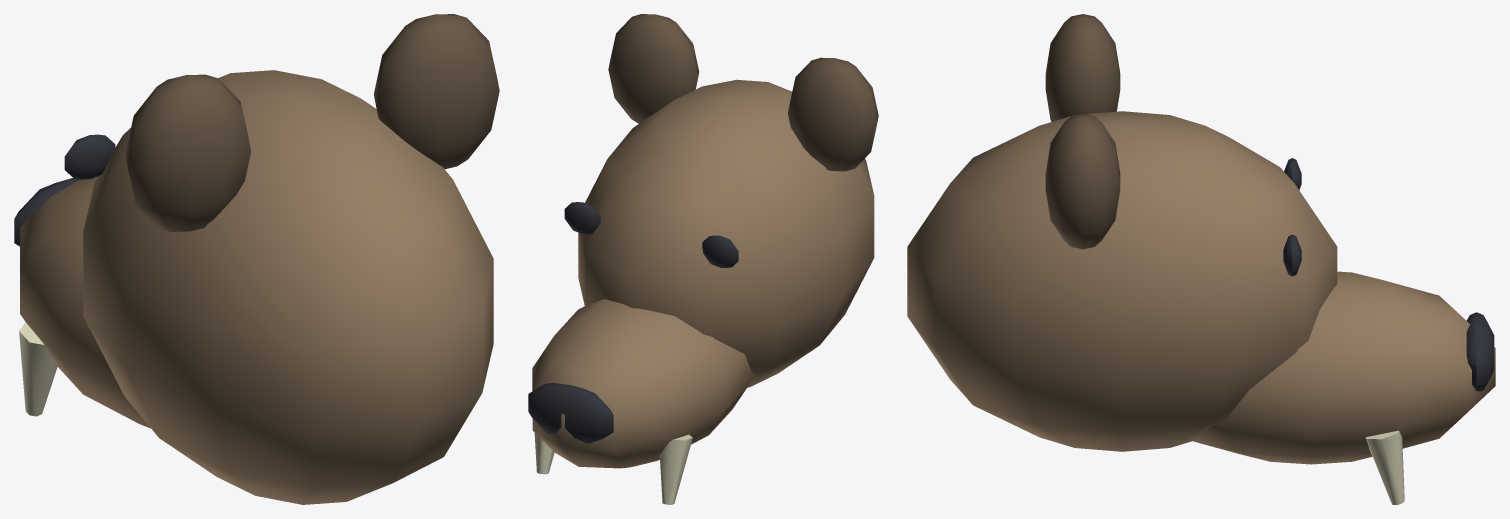
The model's file is chimera_c_head.obj.
The picture shows the model from 3 angles, left to right: view 1: azimuth 30°, elevation 25°; view 2: azimuth 150°, elevation 25°; view 3: azimuth 270°, elevation 25°; orthographic projection. The views are drawn at different scales.
Parts seen in each view (by area): view 1: source_component_000, source_component_005, source_component_007, source_component_001, source_component_006, source_component_003, source_component_002; view 2: source_component_000, source_component_001, source_component_005, source_component_007, source_component_002, source_component_006, source_component_003, source_component_004, source_component_008; view 3: source_component_000, source_component_001, source_component_007, source_component_005, source_component_008, source_component_002.
Boxes of the visible parts, bbox=[...] form: source_component_000: bbox=[83, 70, 493, 504]; source_component_005: bbox=[125, 74, 251, 231]; source_component_007: bbox=[373, 14, 499, 169]; source_component_001: bbox=[20, 176, 150, 428]; source_component_006: bbox=[19, 322, 57, 416]; source_component_003: bbox=[64, 134, 115, 179]; source_component_002: bbox=[14, 178, 79, 246]; source_component_000: bbox=[578, 79, 874, 387]; source_component_001: bbox=[532, 299, 754, 468]; source_component_005: bbox=[788, 57, 878, 171]; source_component_007: bbox=[608, 14, 699, 123]; source_component_002: bbox=[528, 383, 613, 443]; source_component_006: bbox=[659, 434, 692, 504]; source_component_003: bbox=[702, 235, 738, 267]; source_component_004: bbox=[564, 202, 600, 234]; source_component_008: bbox=[534, 433, 554, 474]; source_component_000: bbox=[907, 111, 1337, 451]; source_component_001: bbox=[1192, 271, 1495, 464]; source_component_007: bbox=[1045, 114, 1120, 249]; source_component_005: bbox=[1045, 14, 1120, 121]; source_component_008: bbox=[1365, 430, 1404, 504]; source_component_002: bbox=[1466, 312, 1494, 391].
Bounding box in the file's own units: 0.446 × 0.5617 × 0.747.
